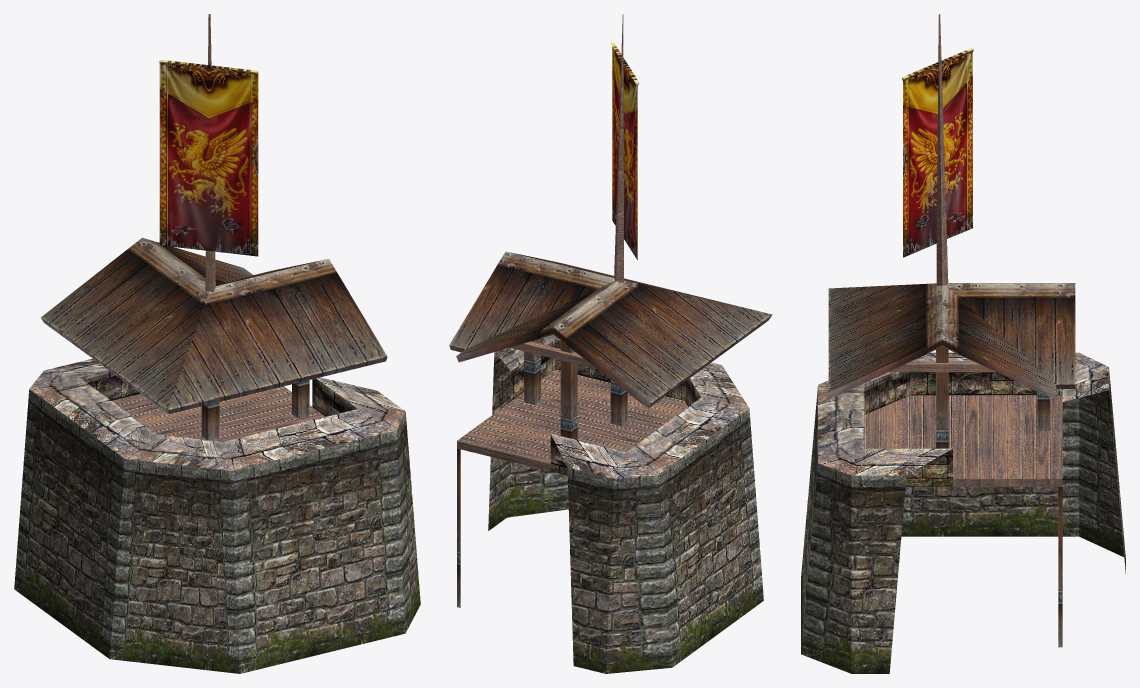
Rendered from m_wall1.glb.
3 renders of one model, left to right at view 1: azimuth 30°, elevation 25°; view 2: azimuth 150°, elevation 25°; view 3: azimuth 270°, elevation 25°, orthographic. The views are drawn at different scales.
Parts seen in each view (by area): view 1: m_wall1-col; view 2: m_wall1-col; view 3: m_wall1-col.
Part boxes in pixels (box(x1,y1,x2,y2)): m_wall1-col: box(14, 14, 420, 673); m_wall1-col: box(449, 14, 772, 673); m_wall1-col: box(801, 14, 1125, 673).
Bounding box in the file's own units: 7.7 × 15.2 × 7.7.
7 materials, 7 textured.
